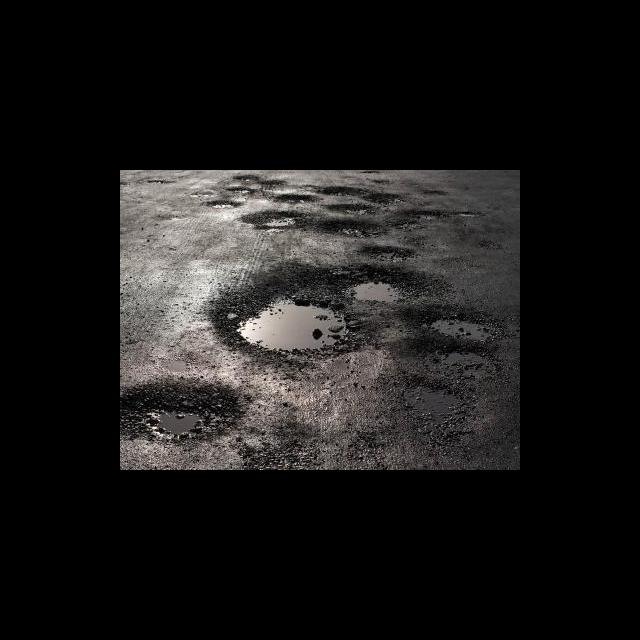lubang_kecil: (225, 278, 349, 372), (120, 377, 247, 449), (411, 297, 508, 348), (333, 259, 436, 306), (241, 206, 312, 241)
